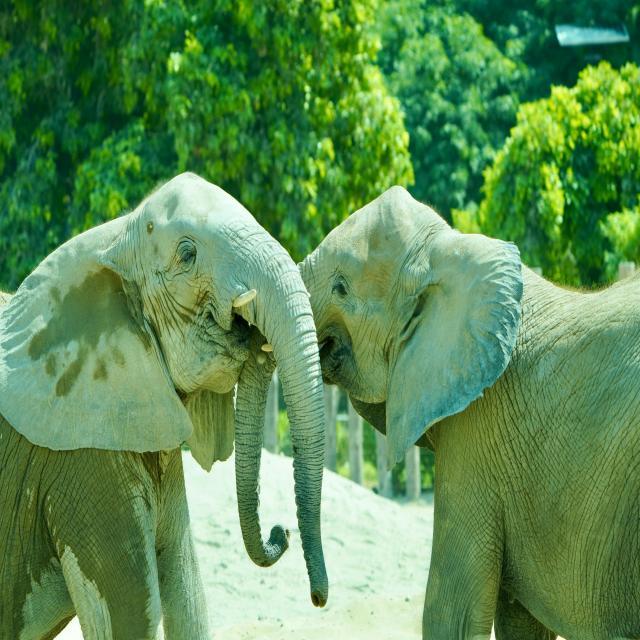Elephant: (235, 183, 640, 640), (1, 171, 330, 640)
